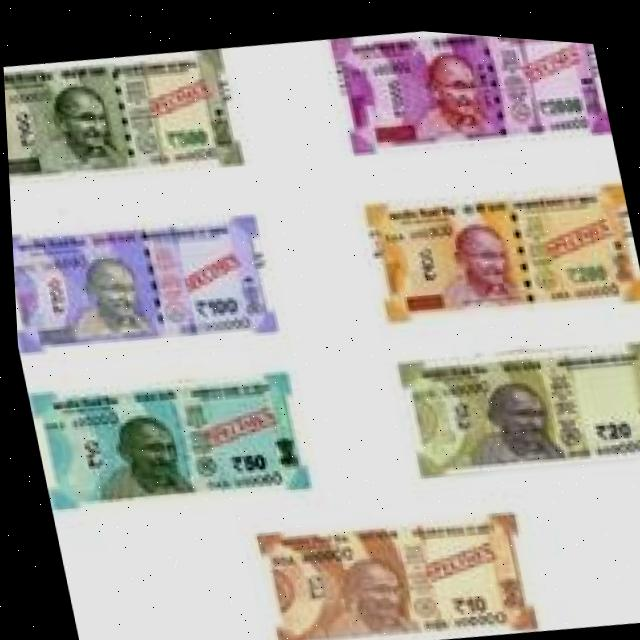banknote: (22, 349, 309, 525), (355, 155, 640, 332), (8, 193, 278, 368), (246, 486, 533, 640), (388, 312, 640, 484), (325, 19, 609, 166), (1, 29, 245, 200)
